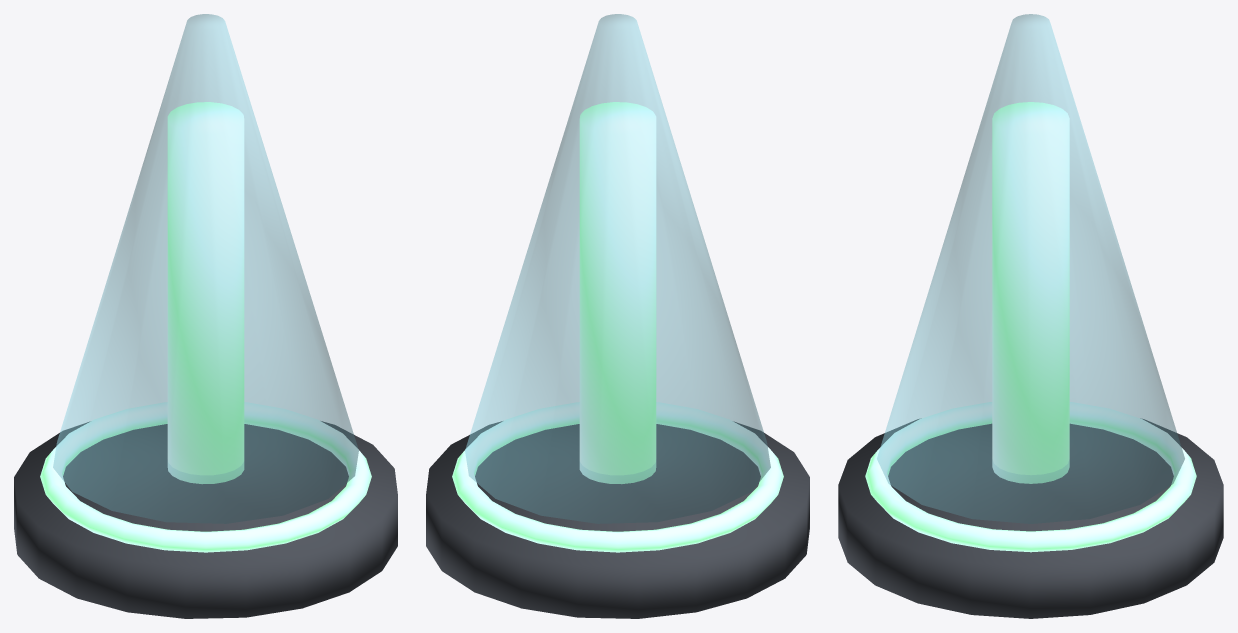
The model's file is holo_lamp_cone_beam.glb.
The picture shows the model from 3 angles, left to right: view 1: azimuth 30°, elevation 25°; view 2: azimuth 150°, elevation 25°; view 3: azimuth 270°, elevation 25°; orthographic projection.
Visible parts, largest first — view 1: GD_holo_lamp_cone_beam__m2, GD_holo_lamp_cone_beam__m0, GD_holo_lamp_cone_beam__m1; view 2: GD_holo_lamp_cone_beam__m2, GD_holo_lamp_cone_beam__m0, GD_holo_lamp_cone_beam__m1; view 3: GD_holo_lamp_cone_beam__m2, GD_holo_lamp_cone_beam__m0, GD_holo_lamp_cone_beam__m1.
Part boxes in pixels (x1=…): GD_holo_lamp_cone_beam__m2: x1=53, y1=14, x2=358, y2=523; GD_holo_lamp_cone_beam__m0: x1=14, y1=421, x2=397, y2=618; GD_holo_lamp_cone_beam__m1: x1=40, y1=102, x2=371, y2=552; GD_holo_lamp_cone_beam__m2: x1=465, y1=14, x2=770, y2=523; GD_holo_lamp_cone_beam__m0: x1=426, y1=421, x2=809, y2=618; GD_holo_lamp_cone_beam__m1: x1=452, y1=102, x2=783, y2=552; GD_holo_lamp_cone_beam__m2: x1=877, y1=14, x2=1184, y2=523; GD_holo_lamp_cone_beam__m0: x1=838, y1=419, x2=1223, y2=618; GD_holo_lamp_cone_beam__m1: x1=865, y1=102, x2=1196, y2=552.
Bounding box in the file's own units: 0.2 × 0.295 × 0.2.
